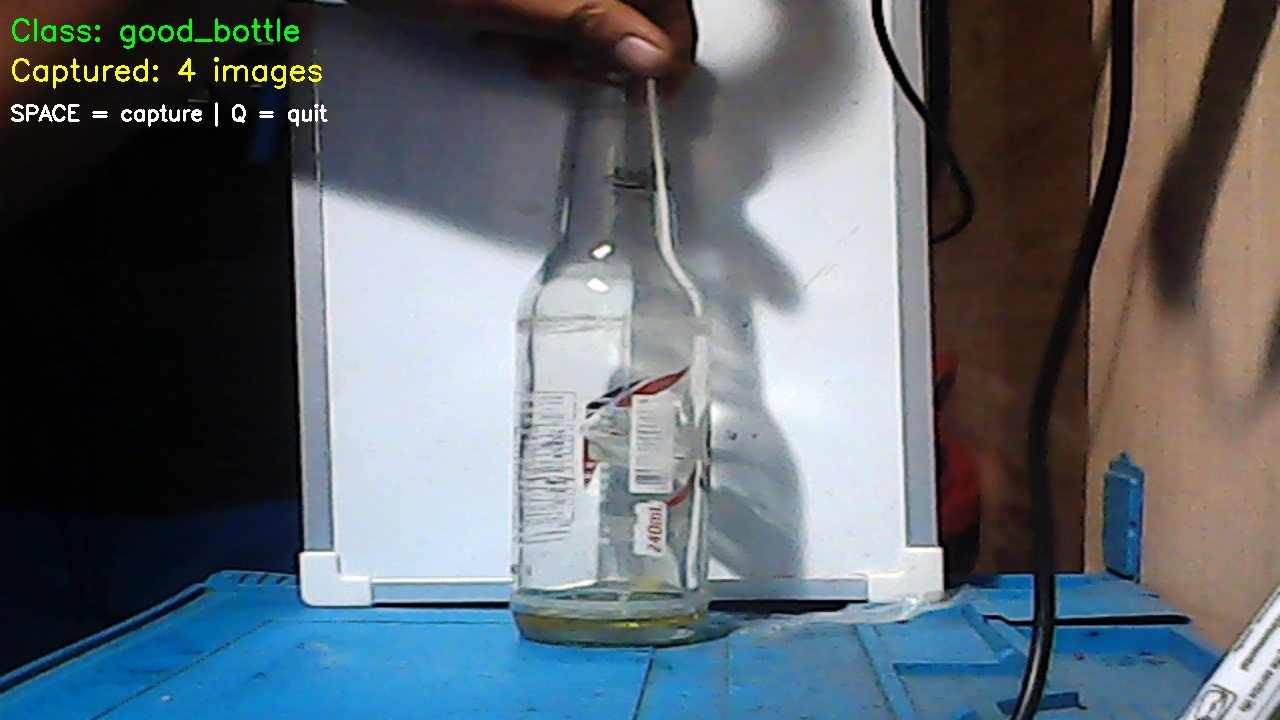good_bottle: (519, 65, 709, 646)
